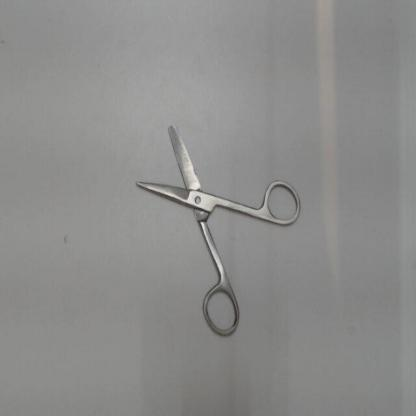Dressing Scissors: (127, 106, 308, 346)
